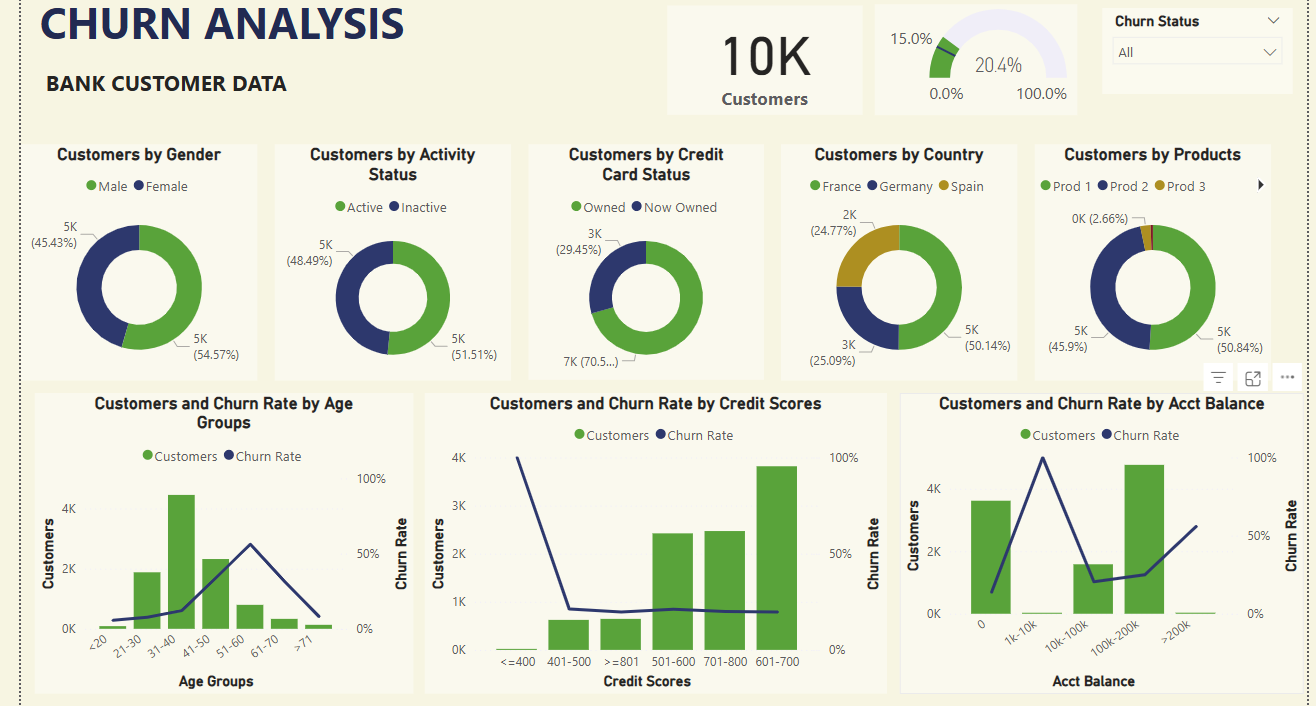

This screenshot's page, from the dashboard's own definition file:
{"tool":"powerbi","page":{"name":"CHURN ANALYSIS","canvas":[1280,720],"ordinal":0},"visuals":[{"type":"card","title":"Customers","fields":{"Values":["Bank Customer Data.Customers"]},"box":[643.2,17.1,194.4,108.8],"z":0},{"type":"donutChart","fields":{"Category":["Bank Customer Data.Gender"],"Y":["Bank Customer Data.Customers"]},"box":[0,155.6,235,235],"z":1000},{"type":"donutChart","fields":{"Y":["Bank Customer Data.Customers"],"Category":["Bank Customer Data.Activity Status"]},"box":[252.3,155.7,235,235],"z":2000},{"type":"donutChart","fields":{"Y":["Bank Customer Data.Customers"],"Category":["Bank Customer Data.Credit Card Status"]},"box":[504.5,155.8,234.8,234.8],"z":3000},{"type":"donutChart","fields":{"Y":["Bank Customer Data.Customers"],"Category":["Bank Customer Data.Country"]},"box":[756.6,155.7,235,235],"z":4000},{"type":"donutChart","fields":{"Y":["Bank Customer Data.Customers"],"Category":["Bank Customer Data.Products"]},"box":[1008.8,155.8,235,235],"z":5000},{"type":"lineClusteredColumnComboChart","fields":{"Y":["Bank Customer Data.Customers"],"Y2":["Bank Customer Data.Churn Percentage"],"Category":["Age Groups.Age Groups"]},"box":[13.5,403.5,376.6,299.6],"z":6000},{"type":"lineClusteredColumnComboChart","fields":{"Y":["Bank Customer Data.Customers"],"Y2":["Bank Customer Data.Churn Percentage"],"Category":["Credit Score Group.Credit Scores"]},"box":[402.3,403.5,459.8,299.6],"z":7000},{"type":"lineClusteredColumnComboChart","fields":{"Y":["Bank Customer Data.Customers"],"Y2":["Bank Customer Data.Churn Percentage"],"Category":["Acct Balance Group.Acct Balance"]},"box":[874.3,403.5,402.3,299.6],"z":8000},{"type":"slicer","fields":{"Values":["Bank Customer Data.Churn Status"]},"box":[1076.1,19.6,189.5,85.6],"z":9000},{"type":"gauge","fields":{"Y":["Bank Customer Data.Churn Rate"],"MinValue":["Min(Bank Customer Data.Min Churn Rate)"],"MaxValue":["Max(Bank Customer Data.Max Churn Rate)"],"TargetValue":["Max(Bank Customer Data.Target Churn Rate)"]},"box":[849.9,15.9,201.8,110.1],"z":10000},{"type":"textbox","box":[13.5,0,547.8,116.2],"z":11000}]}

Visuals, with their boxes on the page's 1280x720 design canvas (x1, y1, x2, y2). These are canvas units, not pixel positions in the 1316x706 screenshot, which may show the page scaled, cropped or inside an application window:
"Customers" card: bbox=(643, 17, 838, 126)
donutChart - Bank Customer Data.Gender x Bank Customer Data.Customers: bbox=(0, 156, 235, 391)
donutChart - Bank Customer Data.Customers x Bank Customer Data.Activity Status: bbox=(252, 156, 487, 391)
donutChart - Bank Customer Data.Customers x Bank Customer Data.Credit Card Status: bbox=(504, 156, 739, 391)
donutChart - Bank Customer Data.Customers x Bank Customer Data.Country: bbox=(757, 156, 992, 391)
donutChart - Bank Customer Data.Customers x Bank Customer Data.Products: bbox=(1009, 156, 1244, 391)
lineClusteredColumnComboChart - Bank Customer Data.Customers x Bank Customer Data.Churn Percentage: bbox=(14, 404, 390, 703)
lineClusteredColumnComboChart - Bank Customer Data.Customers x Bank Customer Data.Churn Percentage: bbox=(402, 404, 862, 703)
lineClusteredColumnComboChart - Bank Customer Data.Customers x Bank Customer Data.Churn Percentage: bbox=(874, 404, 1277, 703)
slicer - Bank Customer Data.Churn Status: bbox=(1076, 20, 1266, 105)
gauge - Bank Customer Data.Churn Rate x Min(Bank Customer Data.Min Churn Rate): bbox=(850, 16, 1052, 126)
textbox: bbox=(14, 0, 561, 116)
